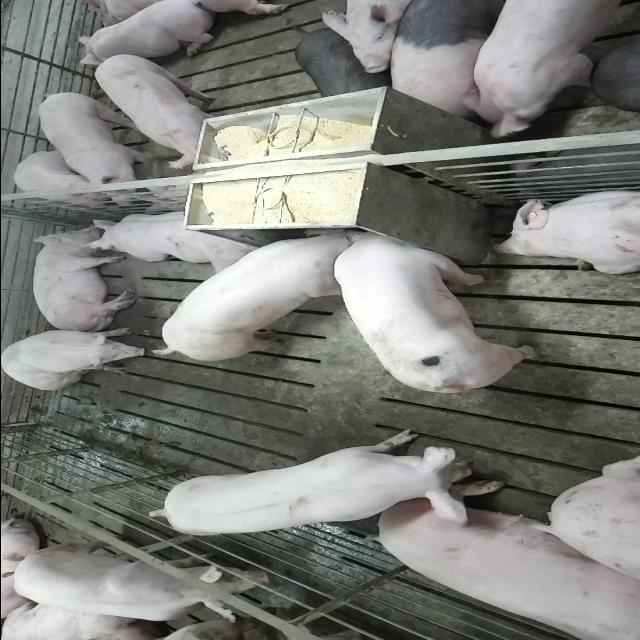Feeding: (333, 220, 539, 390), (150, 230, 360, 364)
Lateral_lying: (28, 222, 139, 333)
Sitting: (0, 327, 146, 390)
Standing: (144, 426, 482, 535), (8, 534, 276, 632), (459, 2, 640, 140), (91, 52, 232, 168), (386, 2, 508, 126), (32, 92, 156, 202)
Sternal_lying: (491, 186, 640, 274), (85, 208, 263, 269), (74, 2, 222, 61)
